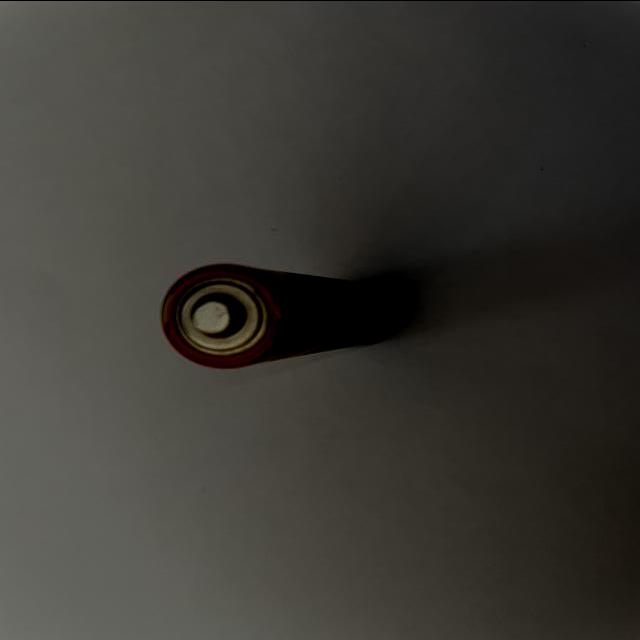AA: (158, 264, 402, 366)
